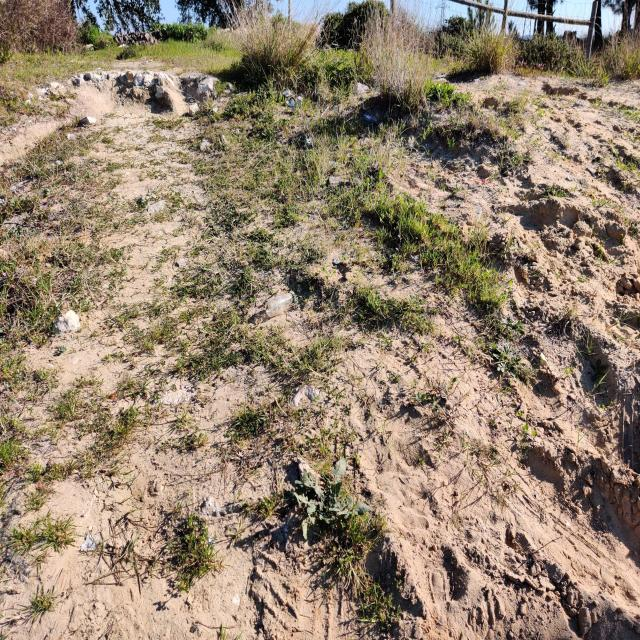litter: (264, 286, 298, 319), (78, 532, 102, 555), (283, 88, 304, 109), (362, 108, 380, 129), (205, 535, 218, 547), (305, 134, 316, 148)
